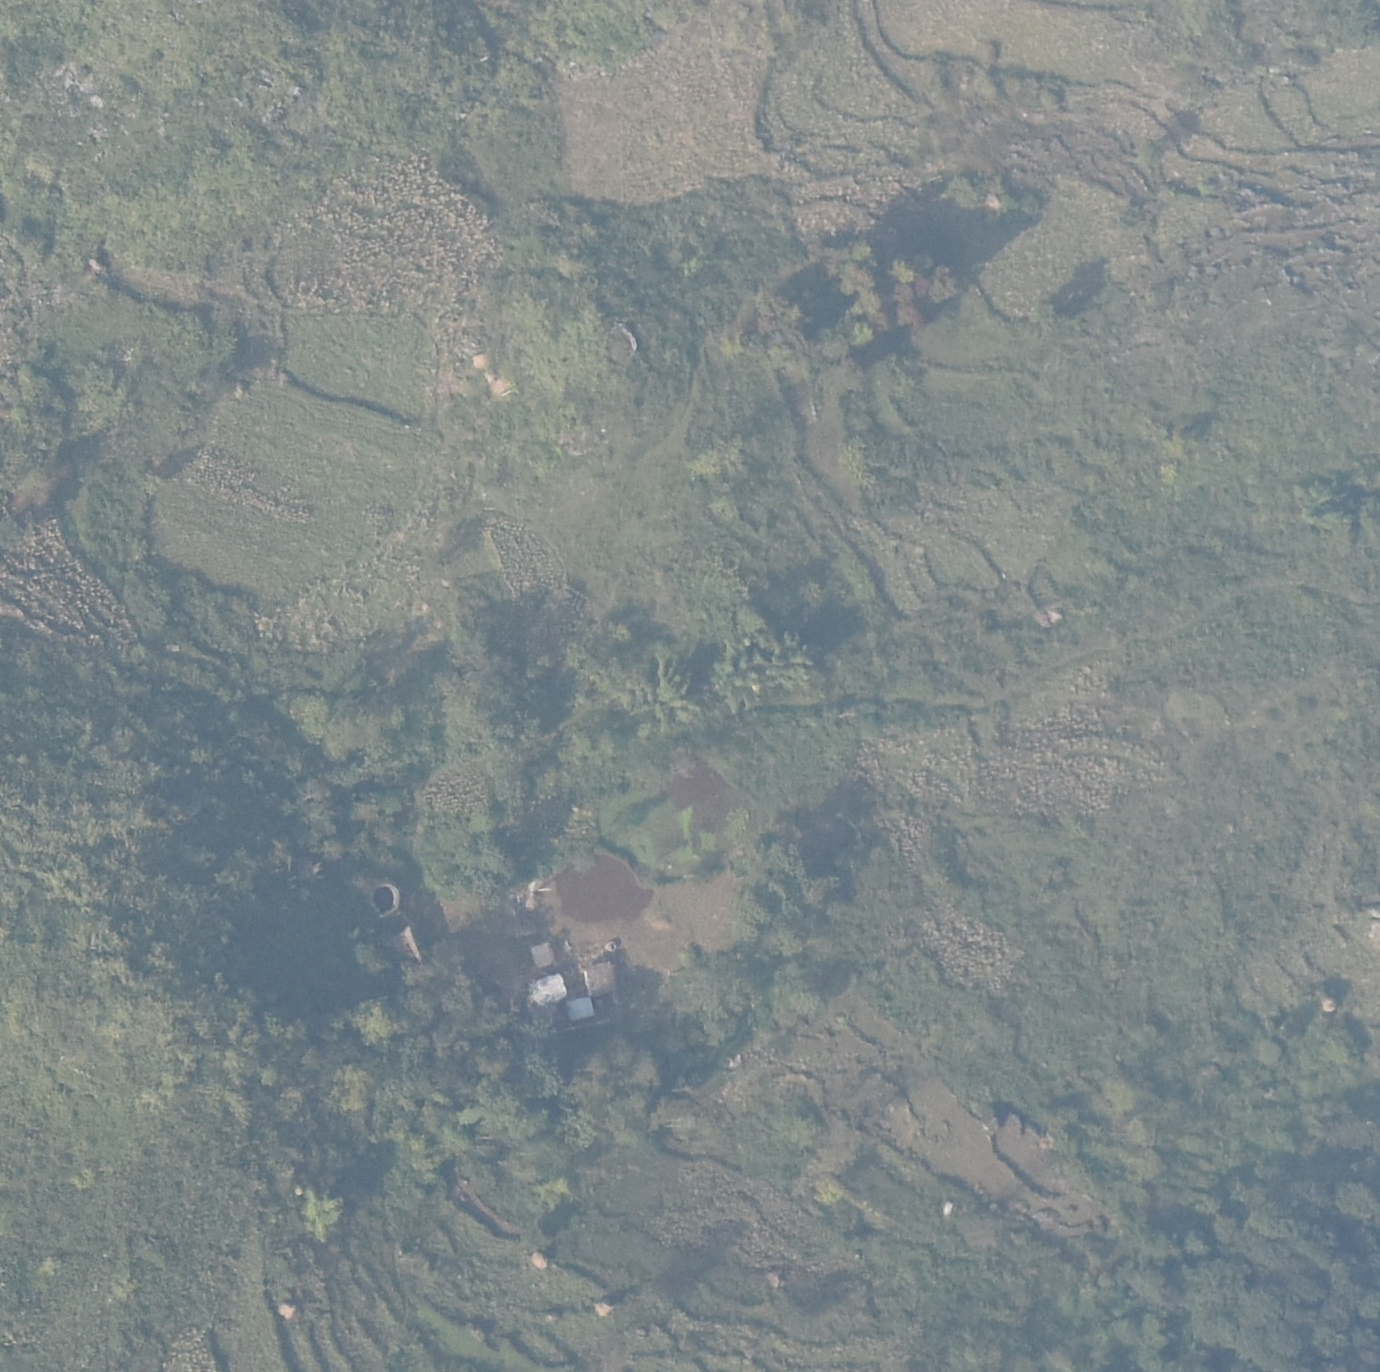building: (519, 971, 568, 1009), (578, 961, 621, 998), (566, 996, 598, 1021)
well: (362, 879, 405, 920)
